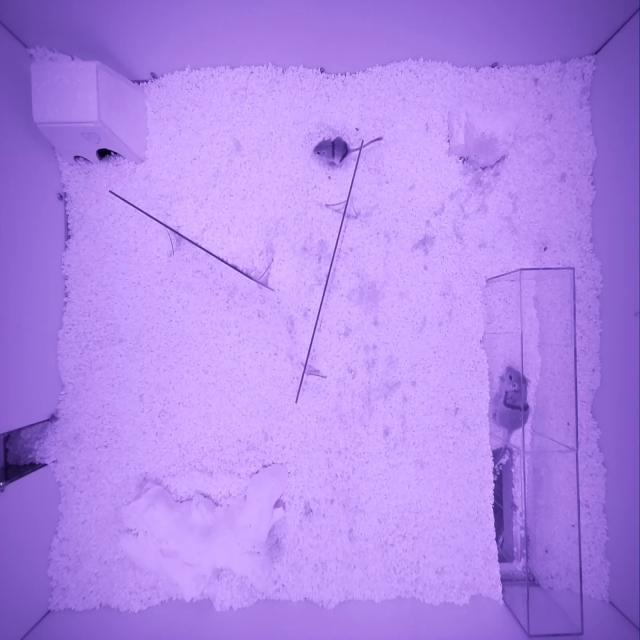adult_front: (496, 366, 532, 429)
pup_h_stripe: (312, 136, 349, 161)
